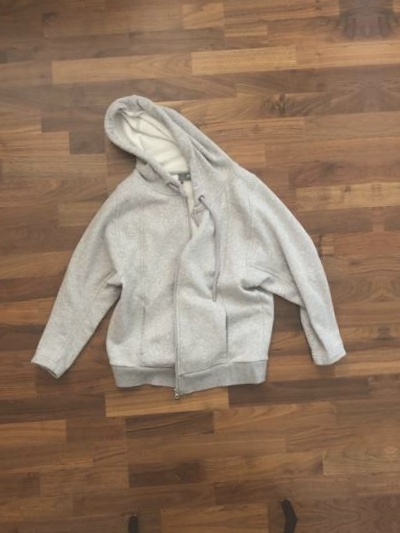Hoodie: (0, 42, 388, 425), (369, 21, 400, 403)
